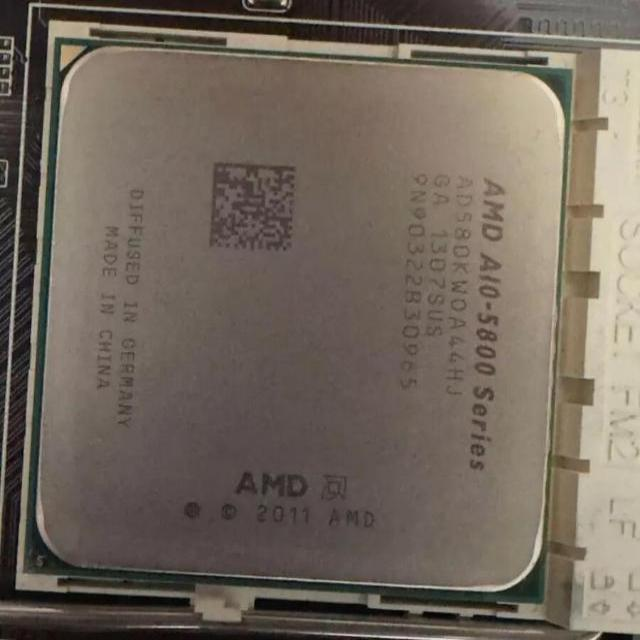CPU: (21, 35, 574, 608)
